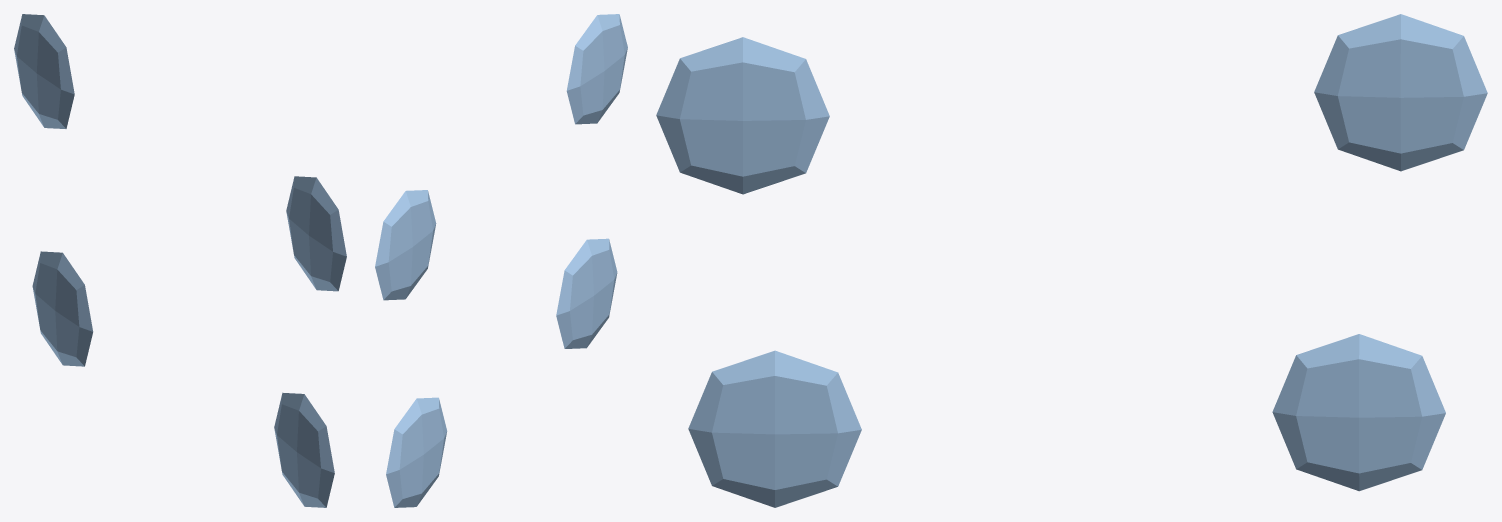
Rendered from UI_Anim.gltf.
3 renders of one model, left to right at view 1: azimuth 30°, elevation 25°; view 2: azimuth 150°, elevation 25°; view 3: azimuth 270°, elevation 25°, orthographic. The views are drawn at different scales.
Visible parts, largest first — view 1: UI4, UI1, UI2, UI3; view 2: UI1, UI2, UI3, UI4; view 3: UI1, UI3, UI2, UI4.
Part boxes in pixels (x1,y1,x2,y2): UI4: [32, 251, 93, 366]; UI1: [286, 176, 346, 291]; UI2: [274, 392, 334, 507]; UI3: [14, 14, 74, 128]; UI1: [566, 14, 627, 124]; UI2: [556, 238, 617, 348]; UI3: [375, 190, 436, 300]; UI4: [386, 397, 447, 507]; UI1: [656, 37, 829, 194]; UI3: [1314, 14, 1487, 171]; UI2: [688, 350, 861, 507]; UI4: [1272, 334, 1445, 491].
Size of the model in its own units: 0.4851 by 3.06 by 4.84.
